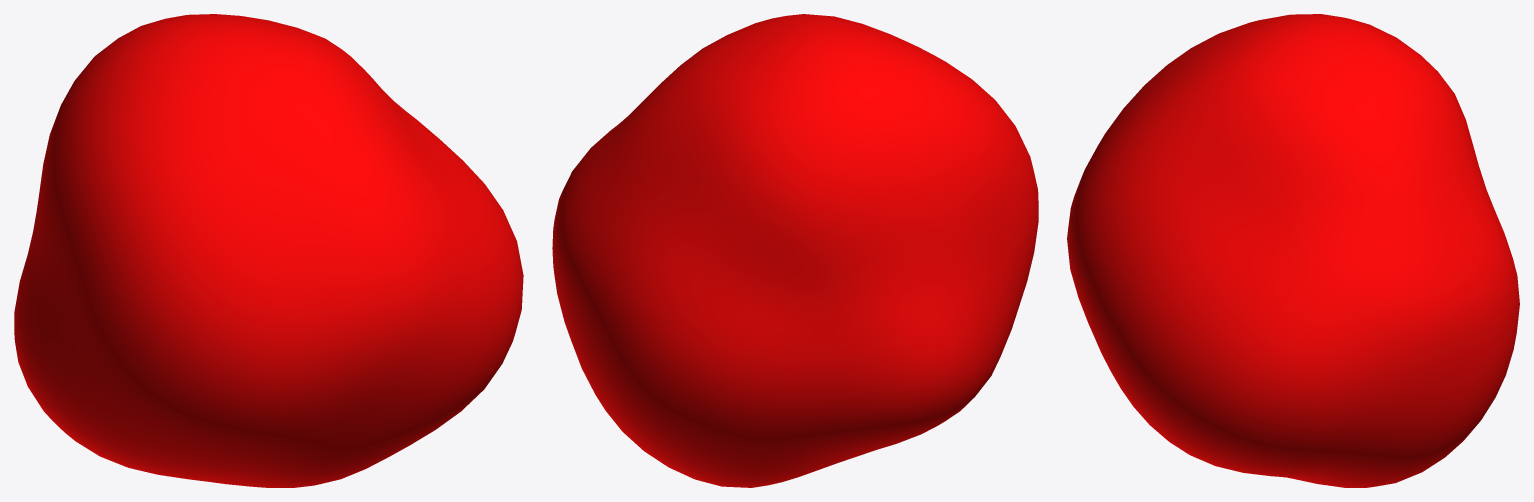
Rendered from vesicle_c.dae.
3 renders of one model, left to right at view 1: azimuth 30°, elevation 25°; view 2: azimuth 150°, elevation 25°; view 3: azimuth 270°, elevation 25°, orthographic. The views are drawn at different scales.
Visible parts, largest first — view 1: vesicle_c; view 2: vesicle_c; view 3: vesicle_c.
Boxes of the visible parts, x1,y1,x2,y2 form: vesicle_c: (14, 14, 523, 487); vesicle_c: (552, 14, 1038, 487); vesicle_c: (1067, 14, 1519, 487).
Bounding box in the file's own units: 422 × 417 × 405.
